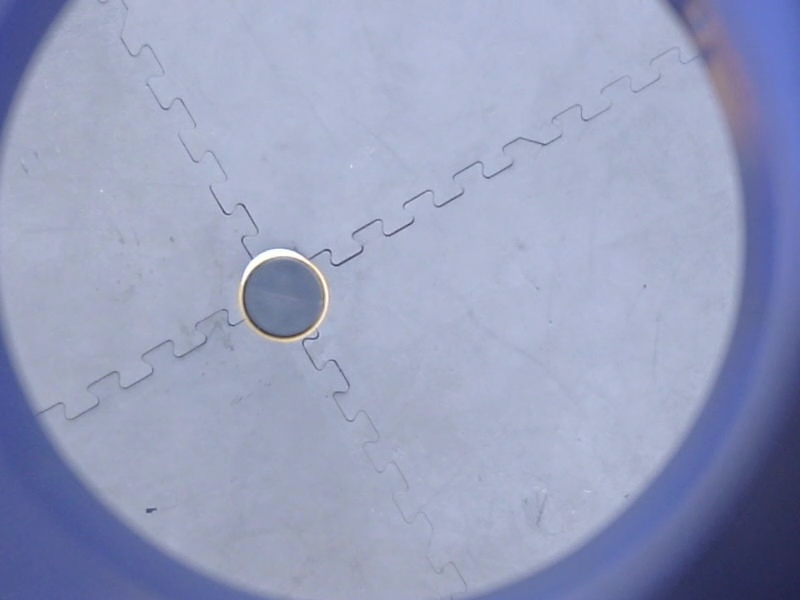tip: (235, 248, 334, 348)
